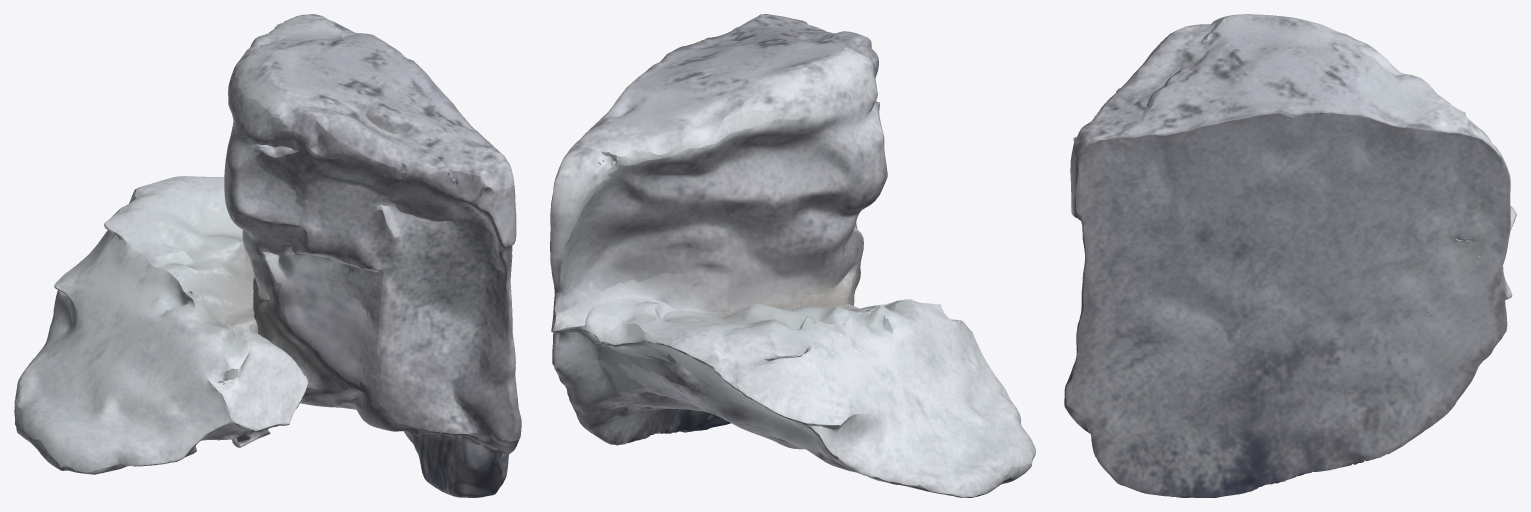
3 renders of one model, left to right at view 1: azimuth 30°, elevation 25°; view 2: azimuth 150°, elevation 25°; view 3: azimuth 270°, elevation 25°, orthographic. The views are drawn at different scales.
Parts seen in each view (by area): view 1: world; view 2: world; view 3: world.
Part boxes in pixels (x1,y1,x2,y2): world: (14,14,521,497); world: (550,14,1035,497); world: (1064,14,1516,497).
Size of the model in its own units: 1.35 by 1.5 by 1.49.
1 material, 1 textured.
